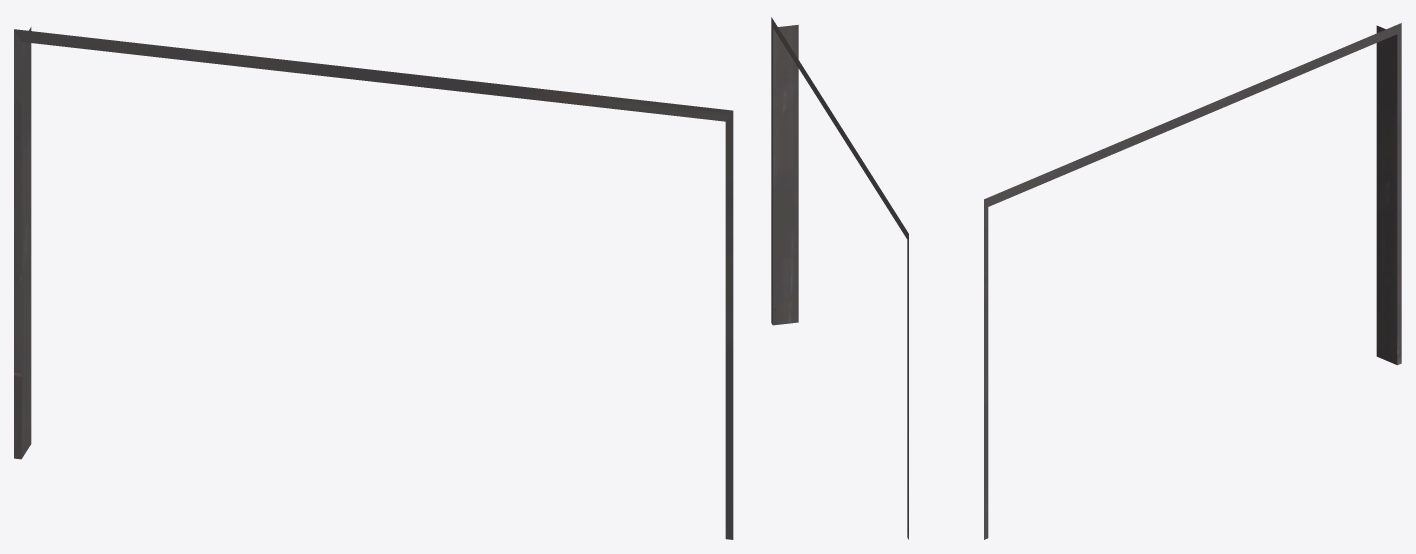
3 views of the same model, side by side, from view 1: azimuth 30°, elevation 25°; view 2: azimuth 150°, elevation 25°; view 3: azimuth 270°, elevation 25° (orthographic). The views are drawn at different scales.
Parts seen in each view (by area): view 1: body0_model0_lod0_mesh0; view 2: body0_model0_lod0_mesh0; view 3: body0_model0_lod0_mesh0.
Boxes of the visible parts, box(x1,y1,x2,y2) form: body0_model0_lod0_mesh0: box(14, 27, 733, 539); body0_model0_lod0_mesh0: box(771, 17, 908, 539); body0_model0_lod0_mesh0: box(984, 23, 1401, 539).
Size of the model in its own units: 168 by 144 by 168.
Materials: 1 (1 with a texture image).
